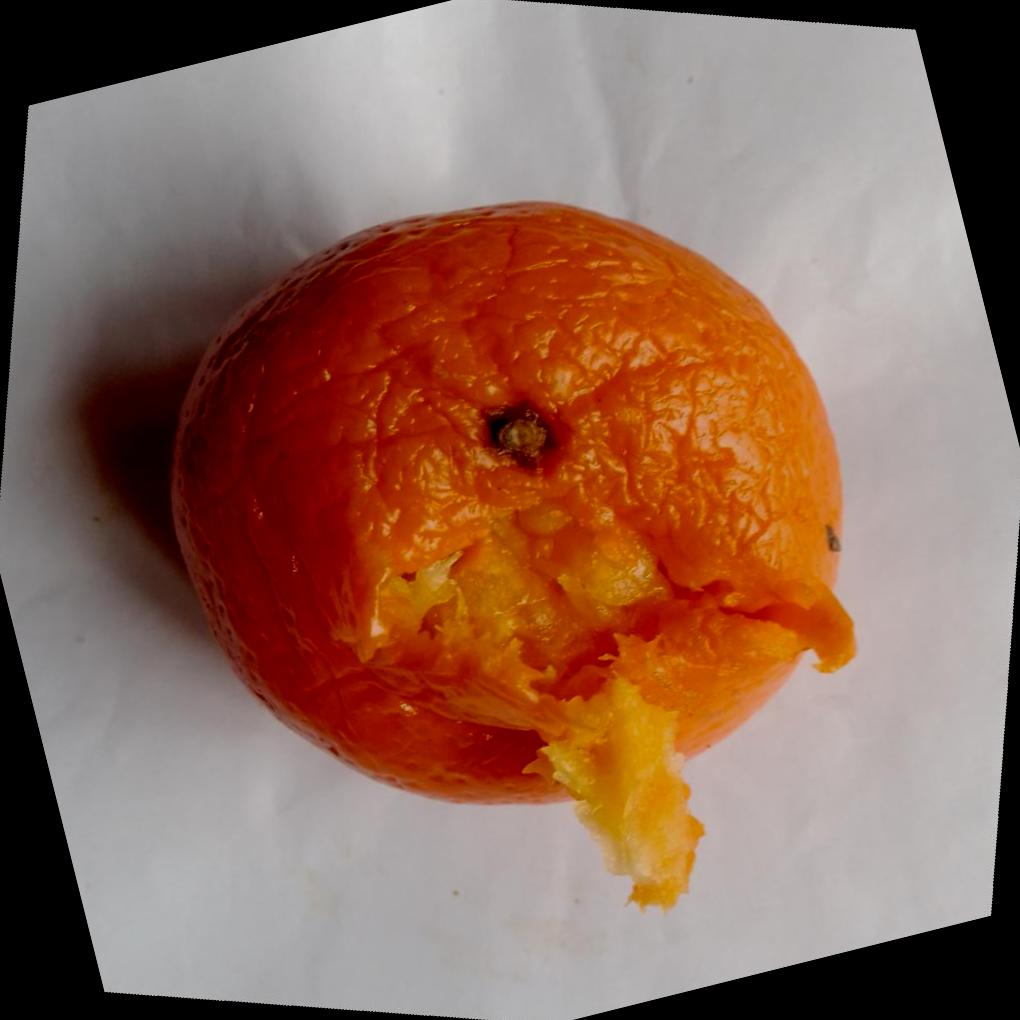FreshOrange: (170, 198, 861, 911)
